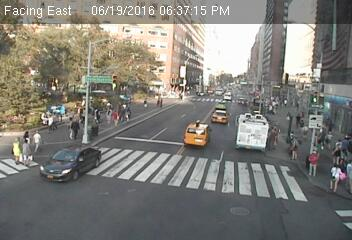neg: (62, 155, 80, 179), (172, 112, 186, 132), (208, 94, 221, 110), (192, 115, 203, 130), (196, 96, 206, 110)
pos: (302, 146, 326, 177), (140, 95, 152, 111)
